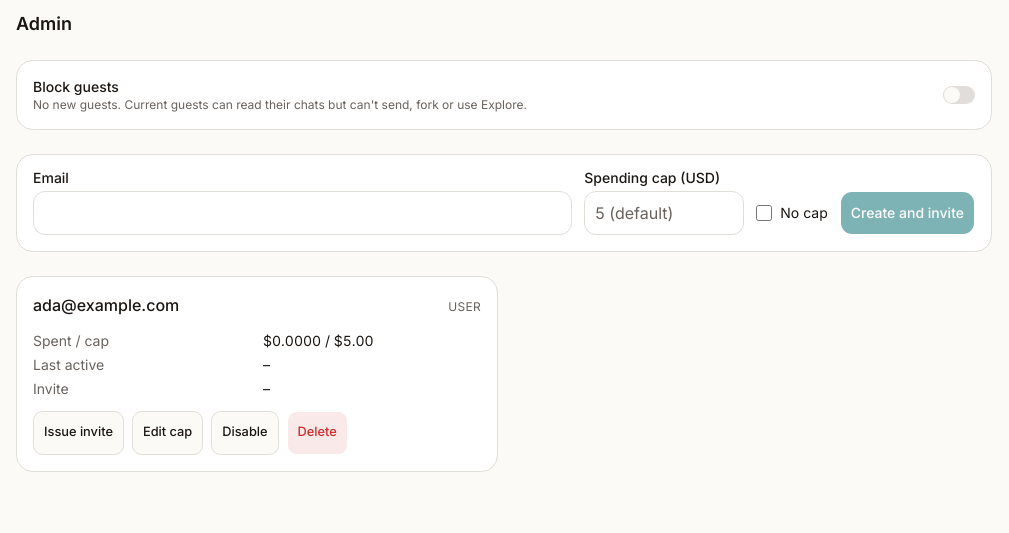
it: AdminConsole on a dead network › a row action whose fetch rejects says so and frees every action
Click the button "Issue invite" at coordinates (78, 433), box [33,411,124,455]
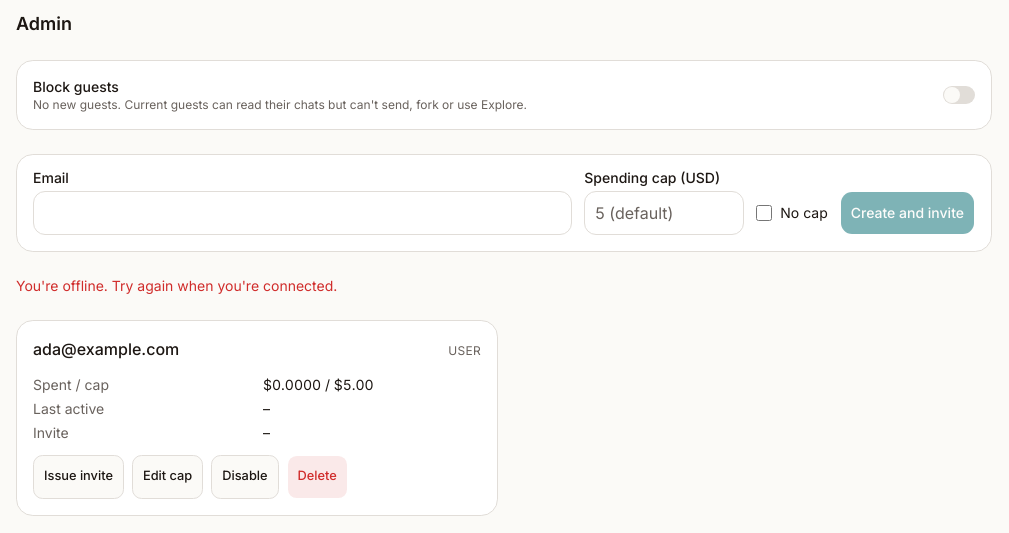
Expected: the button "Issue invite" is enabled, [33,455,124,499]
Expected: the message reads "You're offline. Try again when you're connected.", [16,277,337,294]
